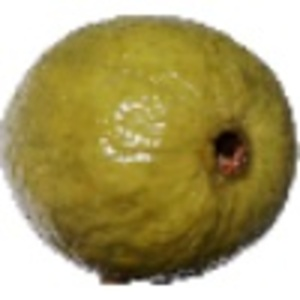goiaba: (4, 11, 294, 279)
